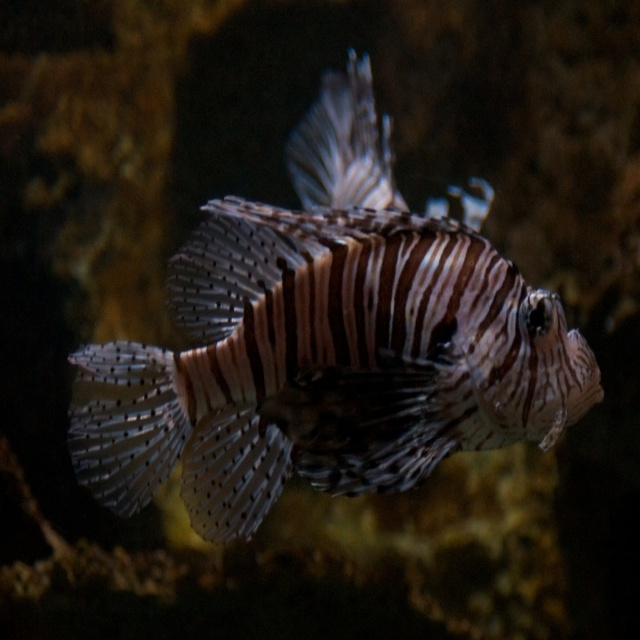Fish: (67, 123, 611, 553)
